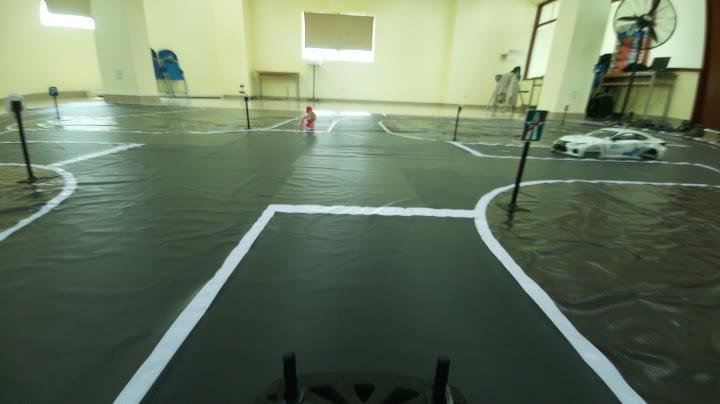highway_exit: (516, 106, 548, 142)
